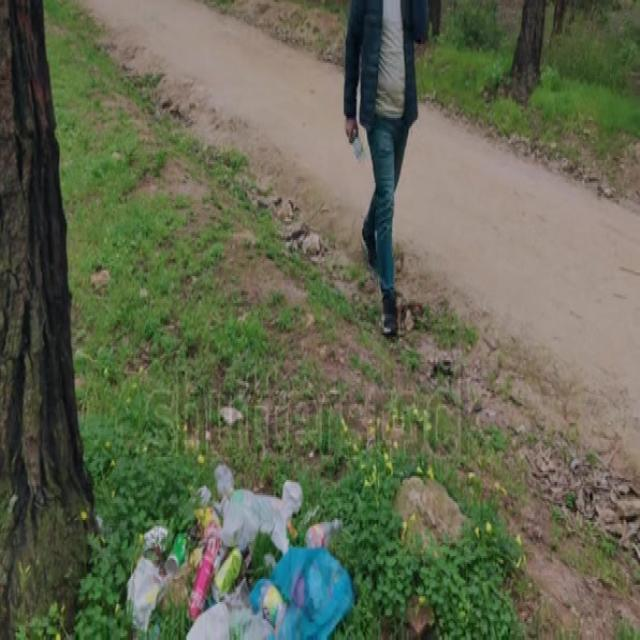garbage_dumping: (131, 465, 362, 640), (351, 126, 366, 164)
